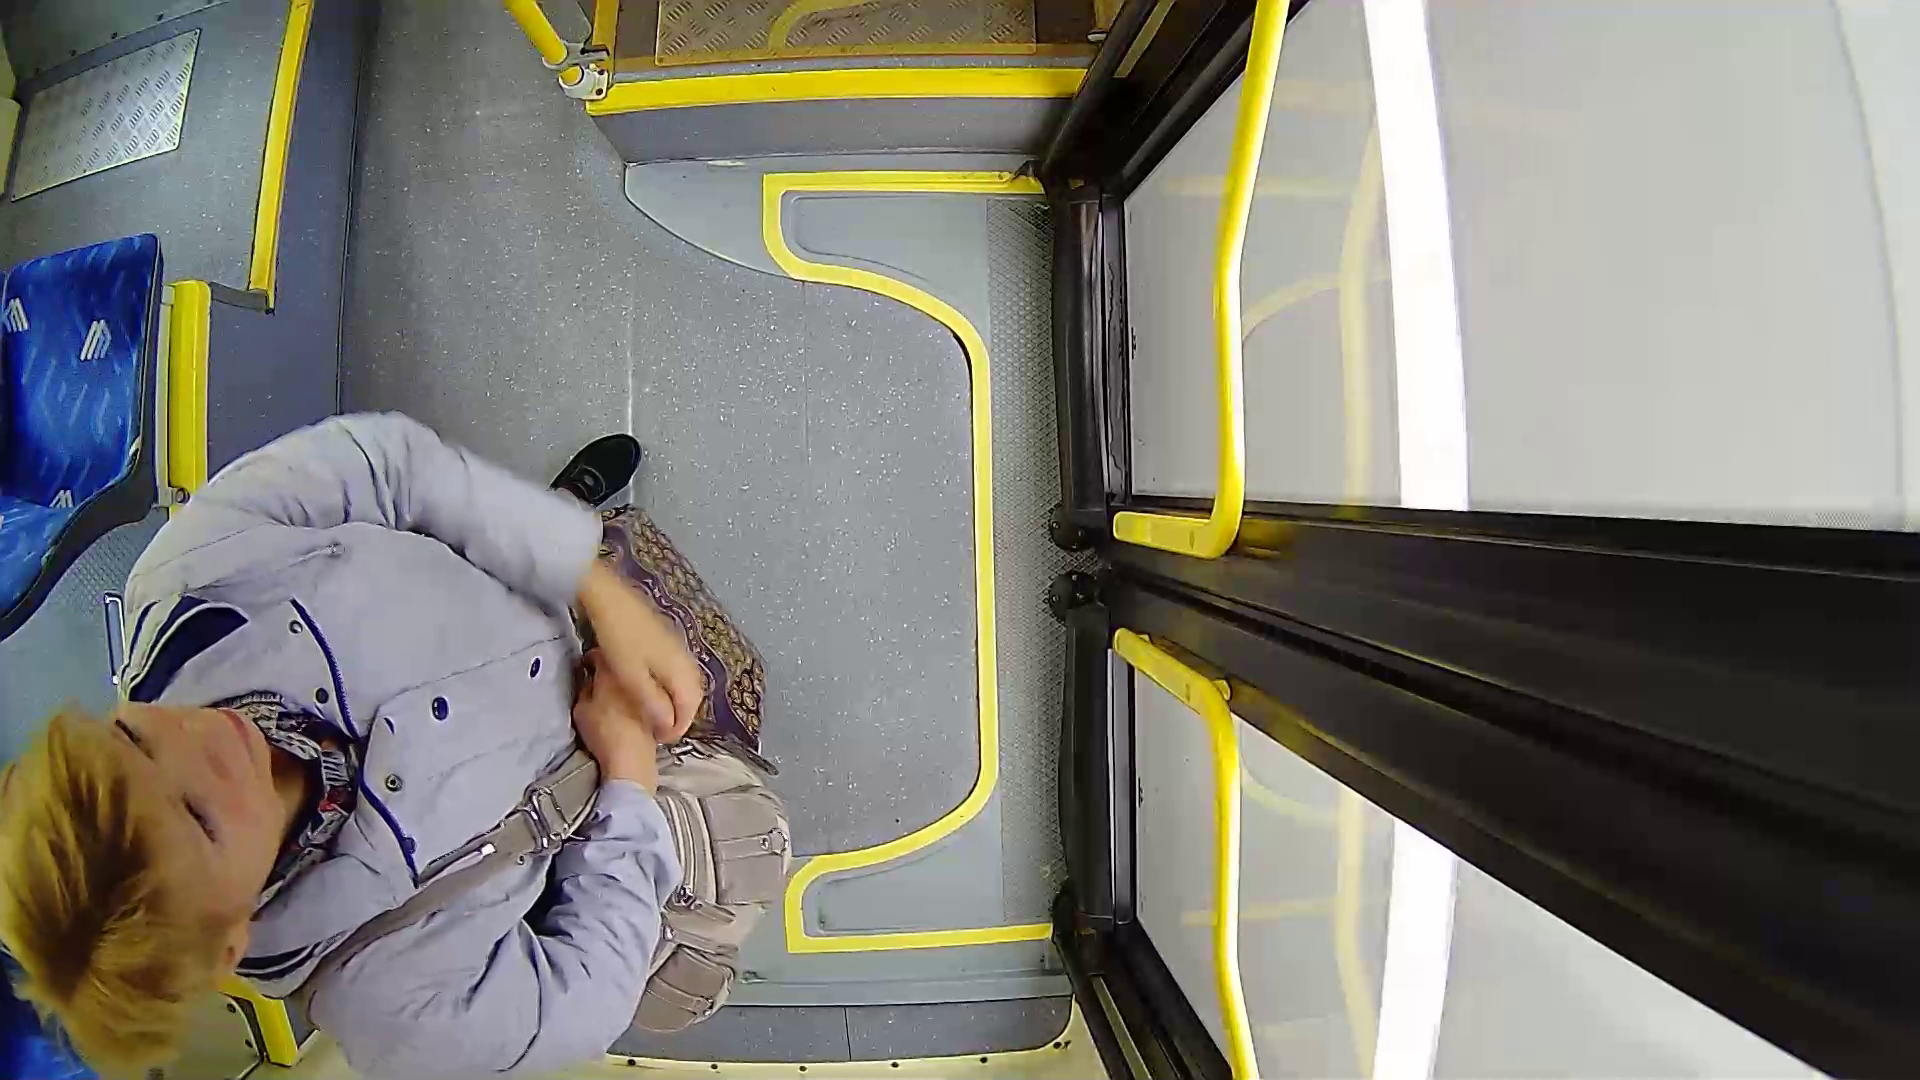person: (43, 382, 832, 1045)
